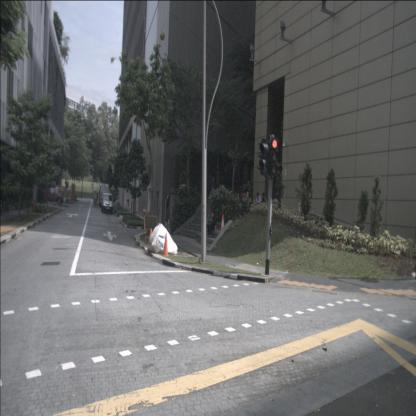cone: (146, 228, 154, 251), (162, 233, 169, 257), (220, 214, 226, 234)
